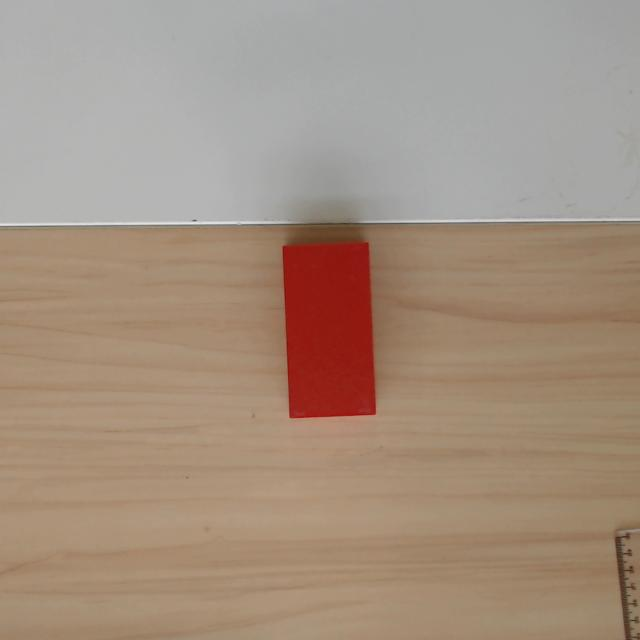Balok-Merah-1005025: (282, 242, 376, 419)
